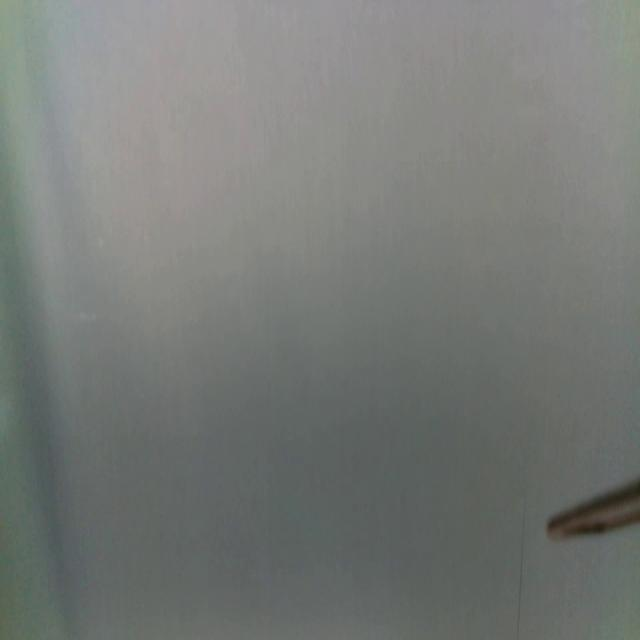crease: (516, 506, 527, 638)
